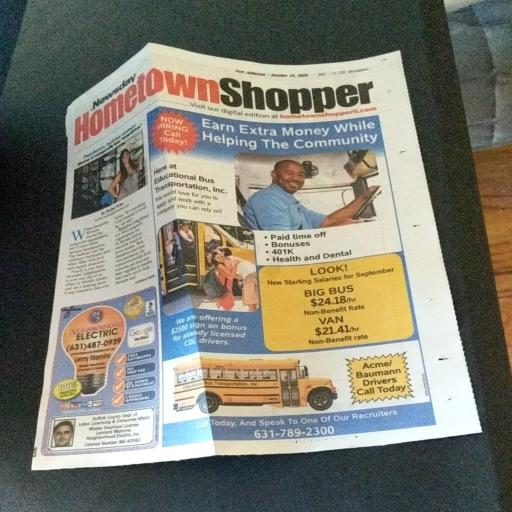paper: (22, 40, 512, 492)
